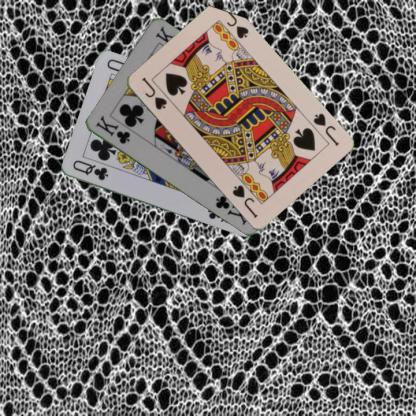Js: (310, 110, 340, 148), (139, 74, 168, 111)
Kc: (93, 112, 131, 146)
Qc: (70, 158, 110, 182)
